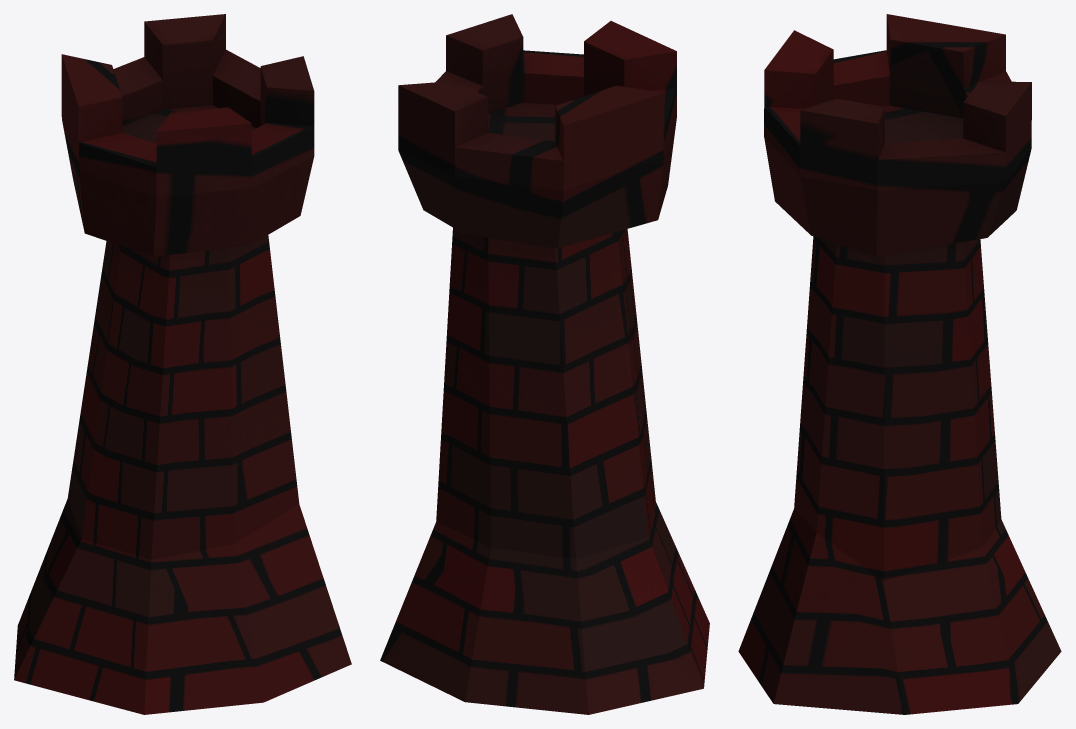
File: tower.glb
3 renders of one model, left to right at view 1: azimuth 30°, elevation 25°; view 2: azimuth 150°, elevation 25°; view 3: azimuth 270°, elevation 25°, orthographic. The views are drawn at different scales.
Parts seen in each view (by area): view 1: Cube; view 2: Cube; view 3: Cube.
Boxes of the visible parts, x1,y1,x2,y2 form: Cube: [14, 14, 351, 714]; Cube: [380, 14, 709, 714]; Cube: [738, 14, 1061, 714].
Bounding box in the file's own units: 134 × 250 × 126.
1 material, 1 textured.
